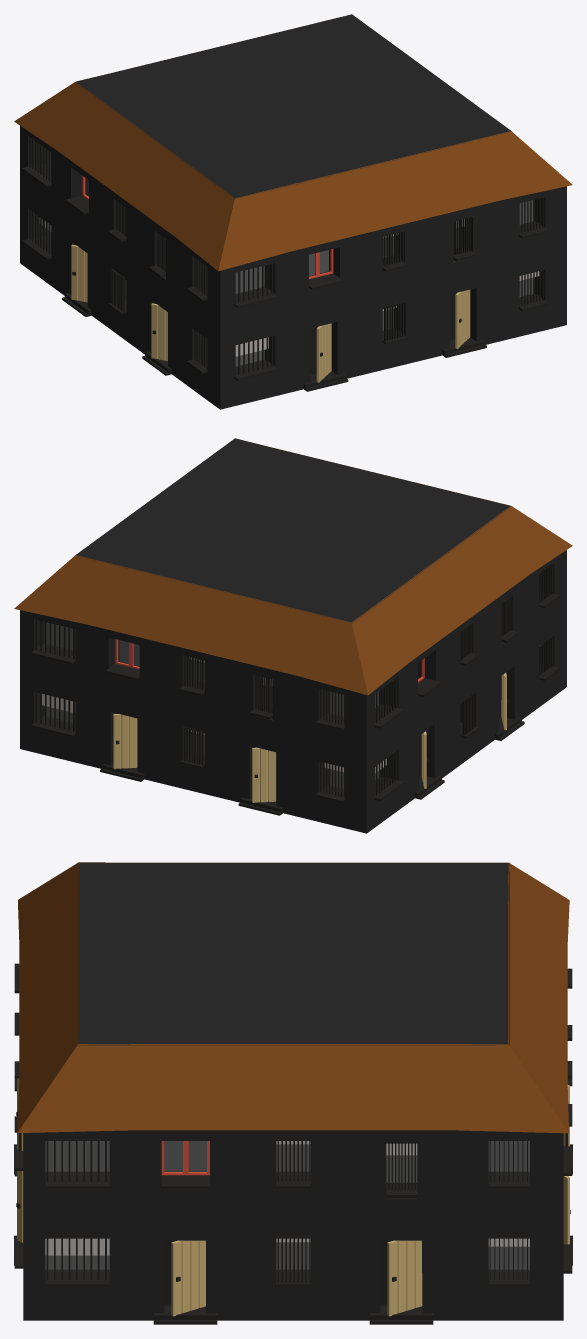
File: CasaProcedural_13.fbx
The picture shows the model from 3 angles, top to bottom: view 1: azimuth 30°, elevation 25°; view 2: azimuth 150°, elevation 25°; view 3: azimuth 270°, elevation 25°; orthographic projection. The views are drawn at different scales.
Parts seen in each view (by area): view 1: Procedural_Building; view 2: Procedural_Building; view 3: Procedural_Building.
Boxes of the visible parts, x1,y1,x2,y2 form: Procedural_Building: [14, 14, 572, 409]; Procedural_Building: [14, 438, 572, 833]; Procedural_Building: [14, 862, 572, 1324].
Size of the model in its own units: 518 by 259 by 518.
